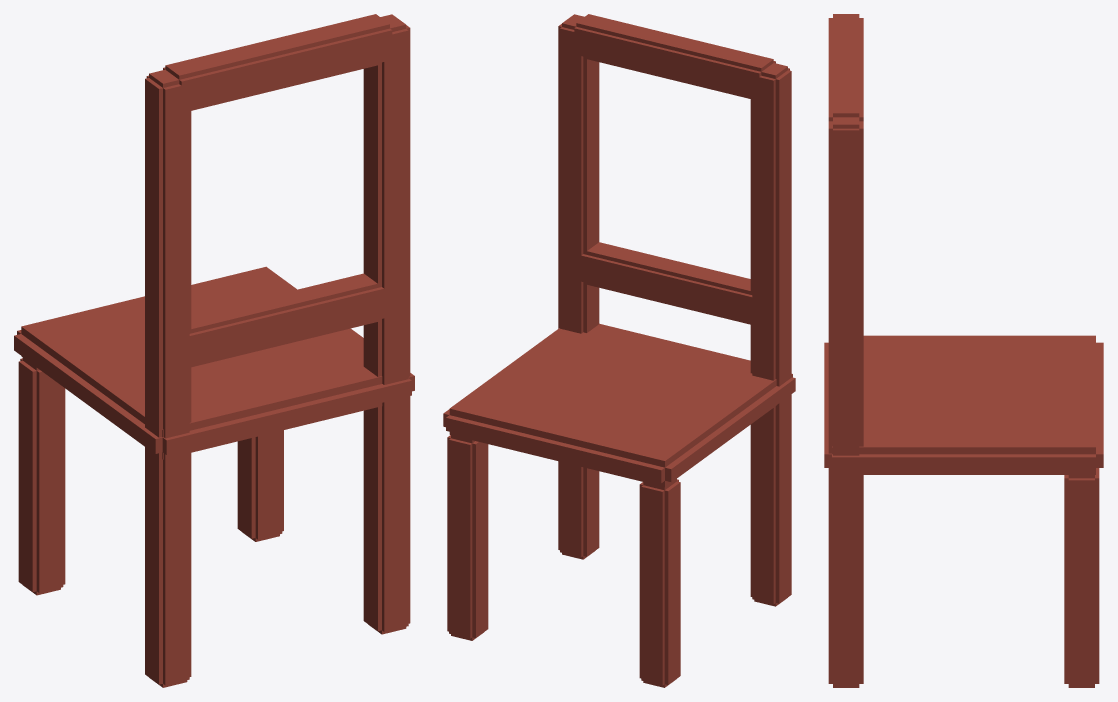
Rendered from rich_mahogany_chair_v0.glb.
The picture shows the model from 3 angles, left to right: view 1: azimuth 30°, elevation 25°; view 2: azimuth 150°, elevation 25°; view 3: azimuth 270°, elevation 25°; orthographic projection. The views are drawn at different scales.
Visible parts, largest first — view 1: rich_mahogany_chair_v0; view 2: rich_mahogany_chair_v0; view 3: rich_mahogany_chair_v0.
Boxes of the visible parts, x1,y1,x2,y2 form: rich_mahogany_chair_v0: (14,14,414,687); rich_mahogany_chair_v0: (443,14,795,687); rich_mahogany_chair_v0: (824,14,1103,687).
Size of the model in its own units: 0.64 by 1.43 by 0.64.
